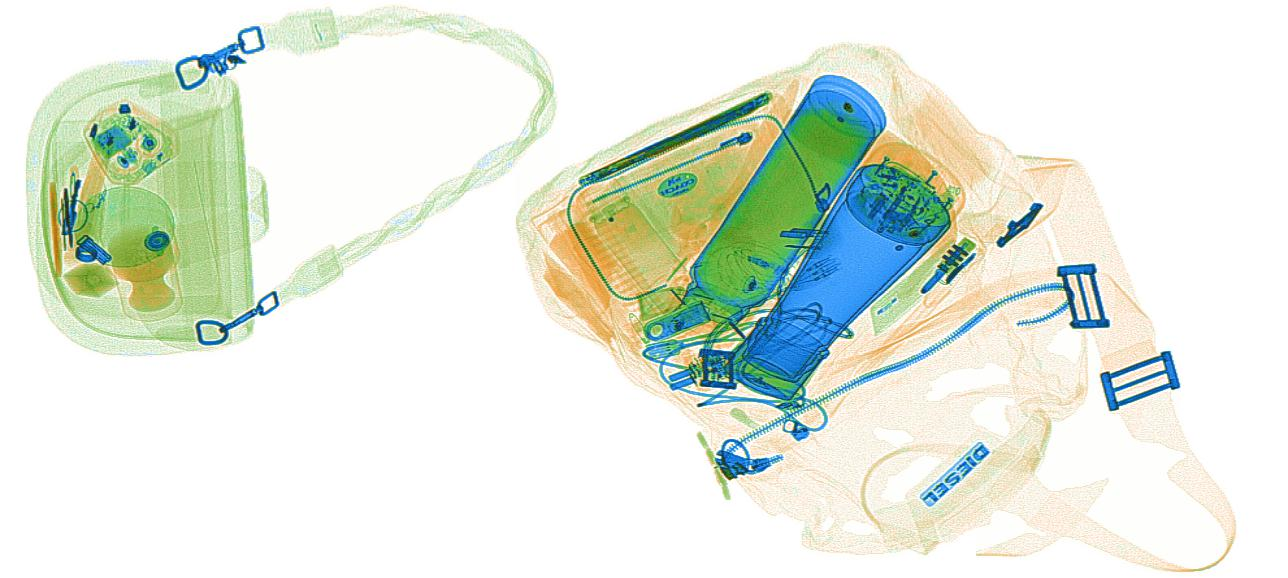USBFlashDisk: (642, 304, 711, 344)
pressure: (579, 177, 686, 295)
seal: (108, 225, 177, 312)
